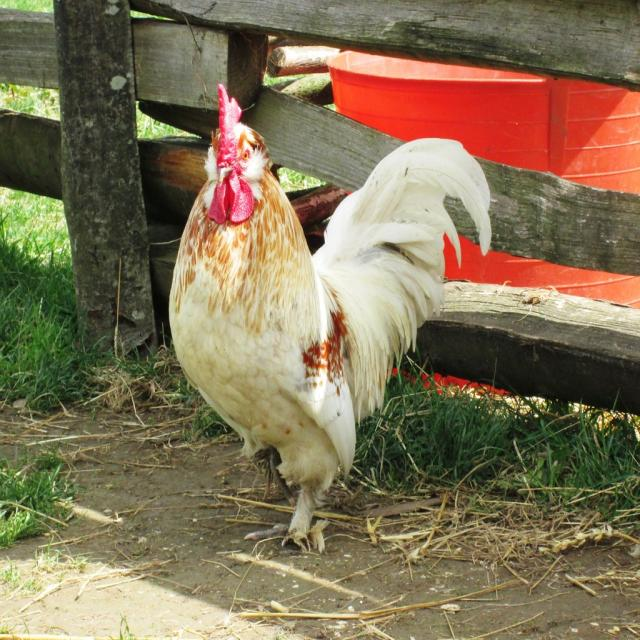Chicken: (162, 80, 488, 543)
